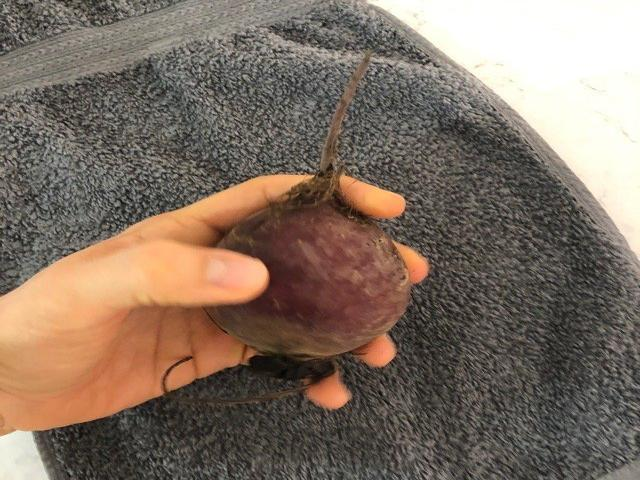beet: (203, 47, 411, 379)
